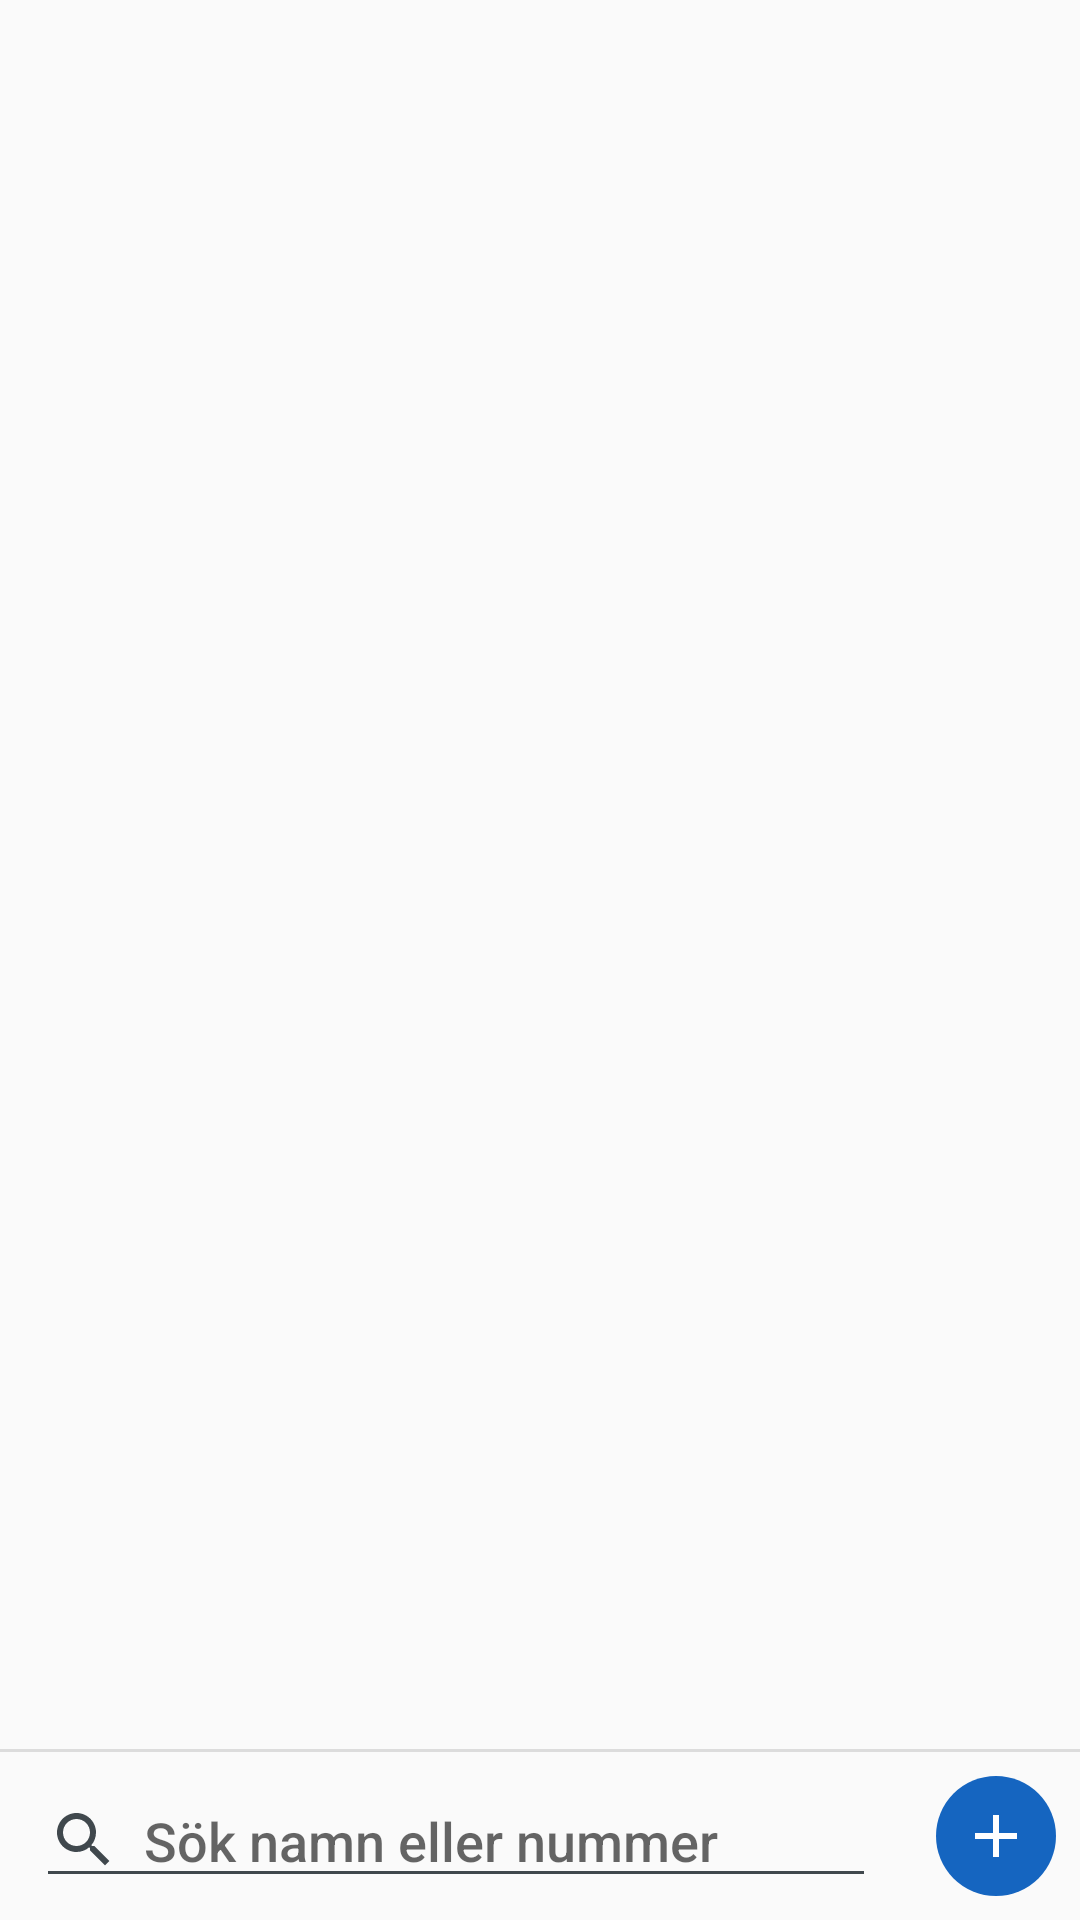

Icon bounding boxes for this 1080 x 1920 phone screenshot, format rect(x1, y1, x2, y2):
Lägg till kontakt: rect(936, 1776, 1056, 1896)
